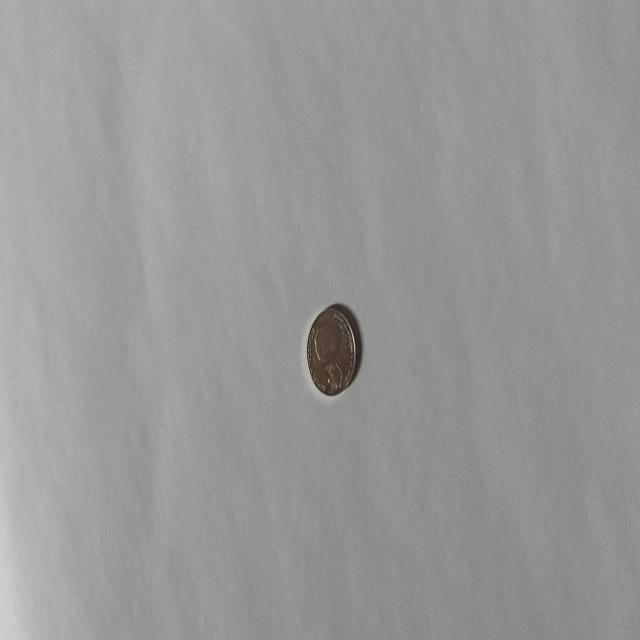seratus rupiah: (306, 303, 356, 397)
